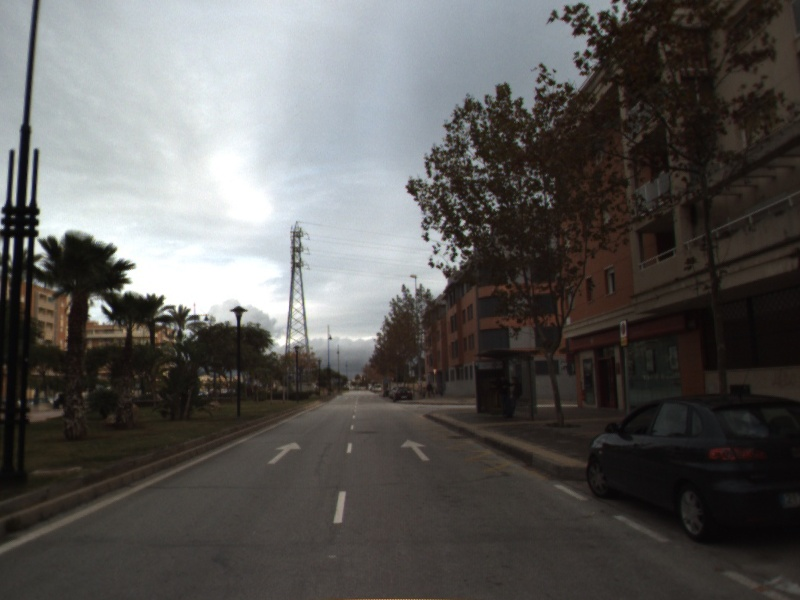STRAIGHT: (266, 440, 303, 466), (399, 437, 433, 462)
